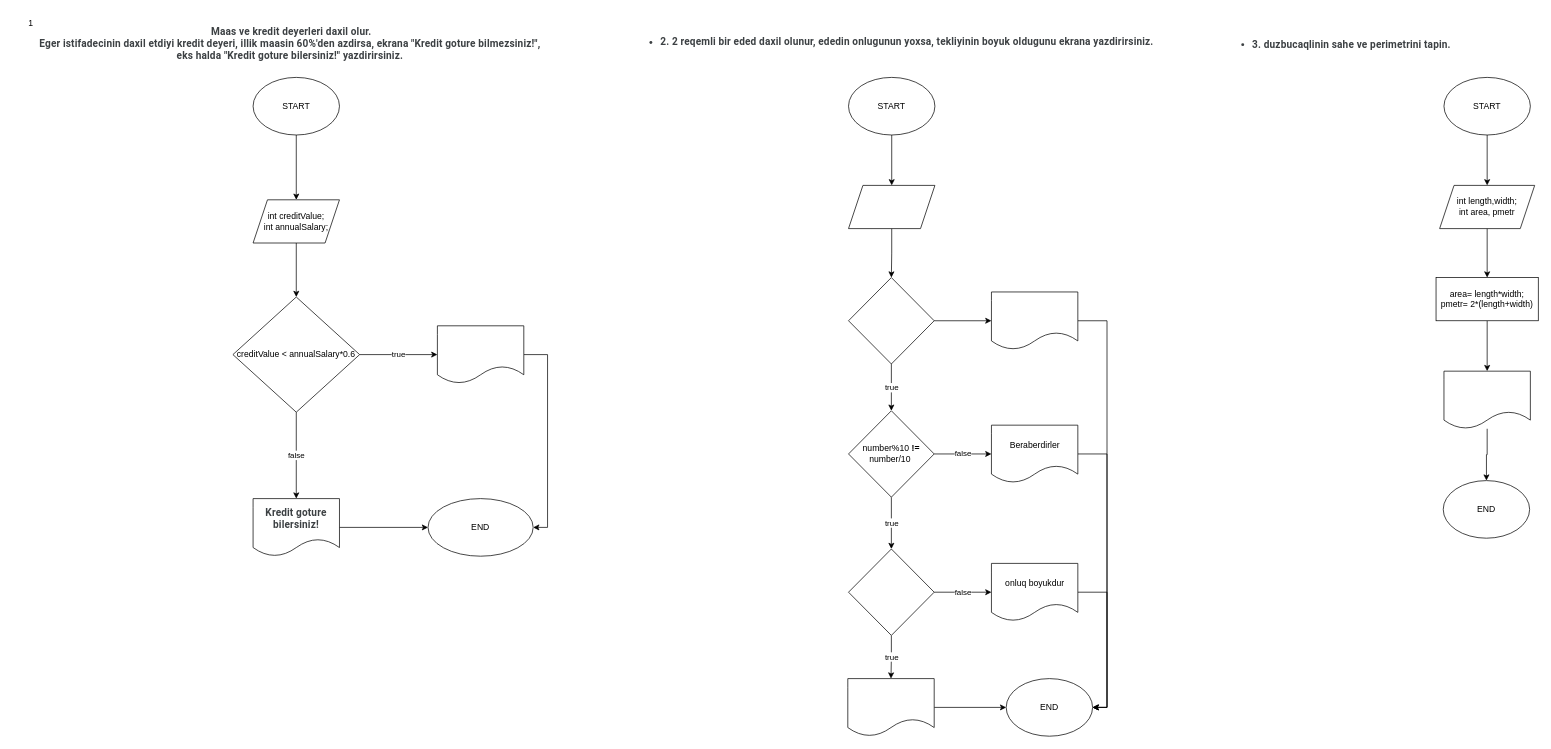
The diagram is 1551 pixels wide and 749 high, and some of its shapes have lost their labels. The centre of each missing label's shape, as x and y in pixels:
"2 reqemli eded daxil edin" belongs at point 1034,320.
"area pmetr" belongs at point 1486,399.
"bayt number;" belongs at point 891,207.
"Kredit goture bilmezsiniz!" belongs at point 480,354.
"number%10 > number/10" belongs at point 891,591.
"number<100" belongs at point 891,320.
"Teklik onluqdan boyukdur" belongs at point 890,707.
